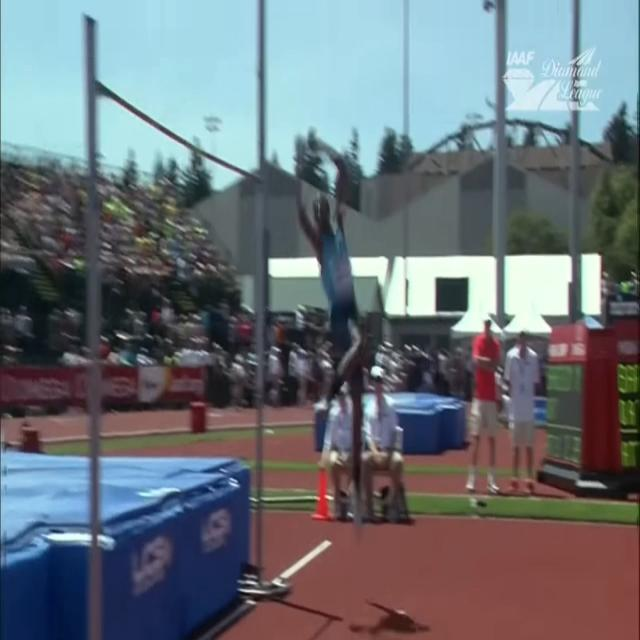jump: (294, 124, 364, 528)
